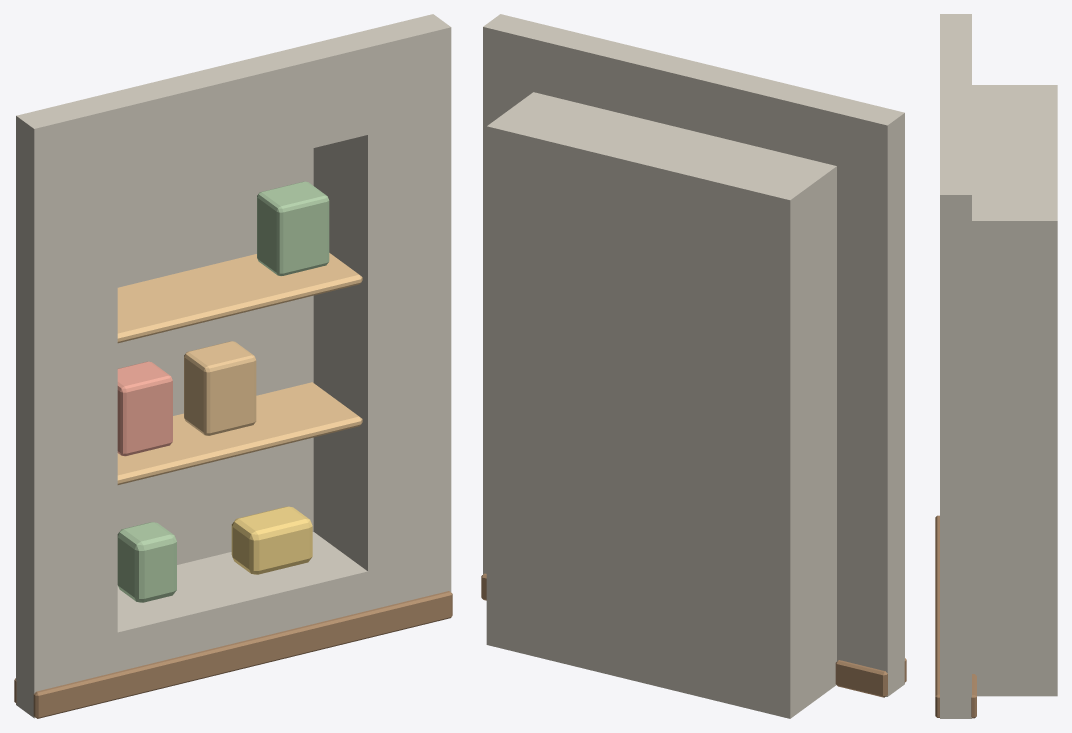
Rendered from cozy-home-interiors-wall-alcove-2m-2547011f.glb.
The picture shows the model from 3 angles, left to right: view 1: azimuth 30°, elevation 25°; view 2: azimuth 150°, elevation 25°; view 3: azimuth 270°, elevation 25°; orthographic projection. The views are drawn at different scales.
Visible parts, largest first — view 1: wall-alcove-2m; view 2: wall-alcove-2m; view 3: wall-alcove-2m.
Boxes of the visible parts, left/top/right/bottom form: wall-alcove-2m: left=14, top=14, right=452, bottom=718; wall-alcove-2m: left=481, top=14, right=906, bottom=718; wall-alcove-2m: left=935, top=14, right=1057, bottom=718.
Size of the model in its own units: 2 by 2.7 by 0.5726.
